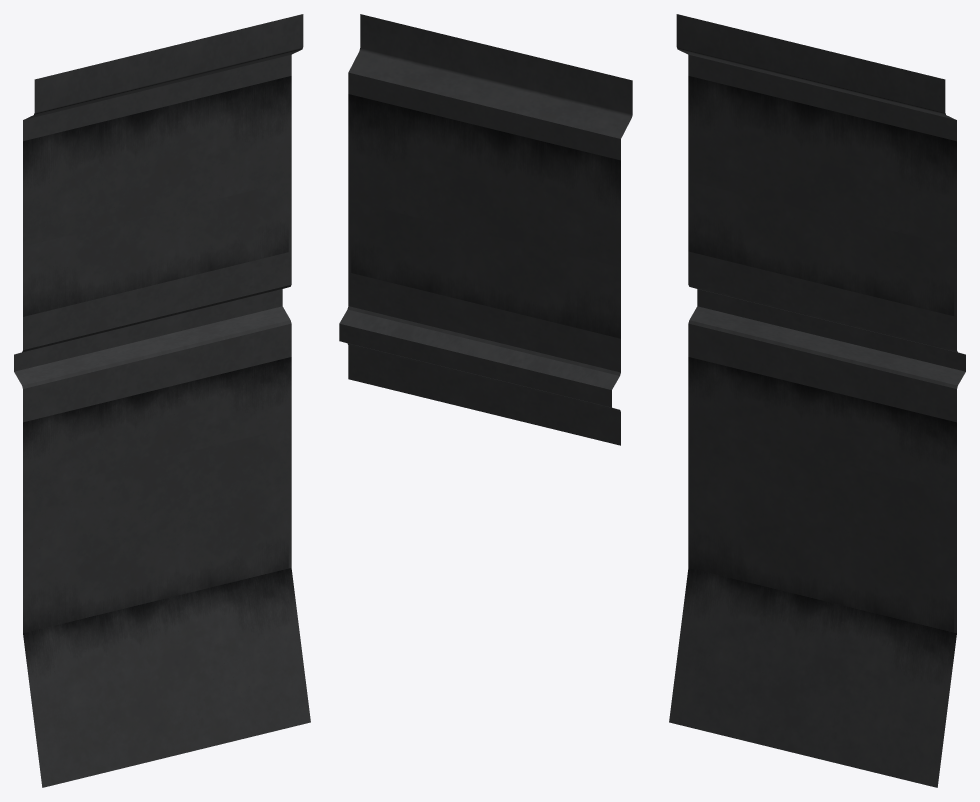
File: M_Wall_Straight_4x10_v4.fbx
3 views of the same model, side by side, from view 1: azimuth 30°, elevation 25°; view 2: azimuth 150°, elevation 25°; view 3: azimuth 330°, elevation 25° (orthographic).
Parts seen in each view (by area): view 1: Wall_Straight_4x10_v4; view 2: Wall_Straight_4x10_v4; view 3: Wall_Straight_4x10_v4.
Boxes of the visible parts, box(x1,y1,x2,y2) form: Wall_Straight_4x10_v4: box(14, 14, 310, 787); Wall_Straight_4x10_v4: box(339, 14, 632, 445); Wall_Straight_4x10_v4: box(669, 14, 965, 787).
Bounding box in the file's own units: 400 × 1000 × 73.02.
